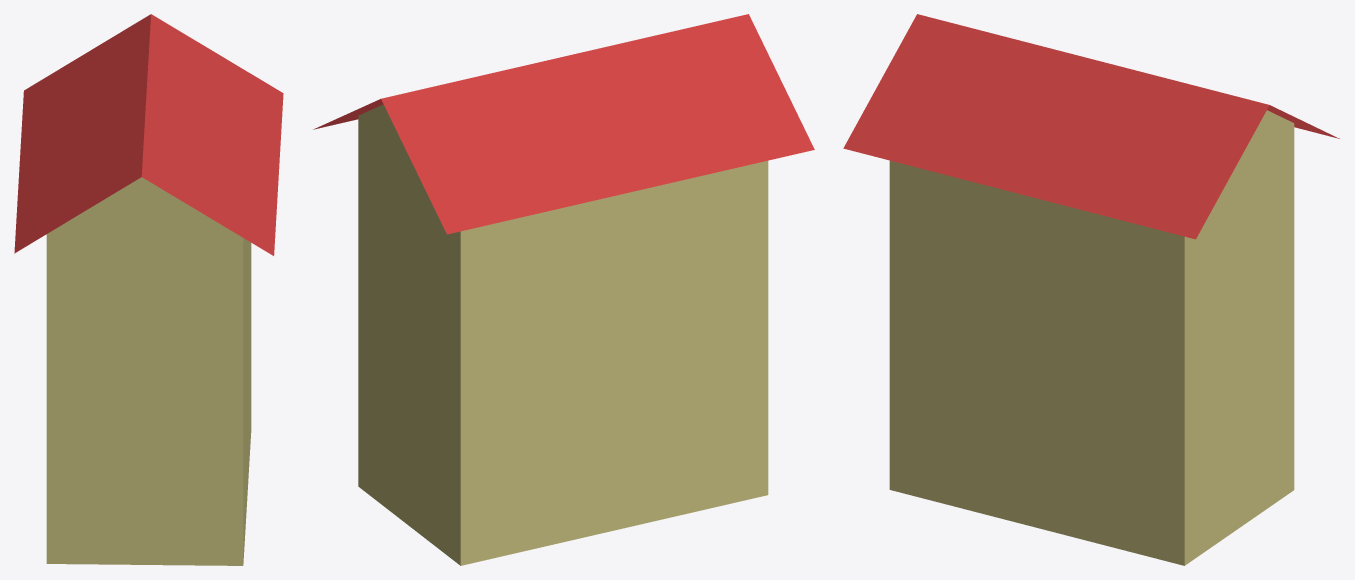
3 renders of one model, left to right at view 1: azimuth 30°, elevation 25°; view 2: azimuth 150°, elevation 25°; view 3: azimuth 270°, elevation 25°, orthographic. The views are drawn at different scales.
Parts seen in each view (by area): view 1: group_5, group_3, group_4; view 2: group_5, group_3, group_4; view 3: group_5, group_3, group_4.
Part boxes in pixels (x1,y1,x2,y2): group_5: (46,177,251,565); group_3: (24,14,251,223); group_4: (14,14,283,255); group_5: (358,104,768,565); group_3: (313,14,768,234); group_4: (382,14,814,234); group_5: (889,110,1294,565); group_3: (890,21,1331,199); group_4: (843,14,1339,239).
Bounding box in the file's own units: 6.71 × 7.37 × 7.02.
